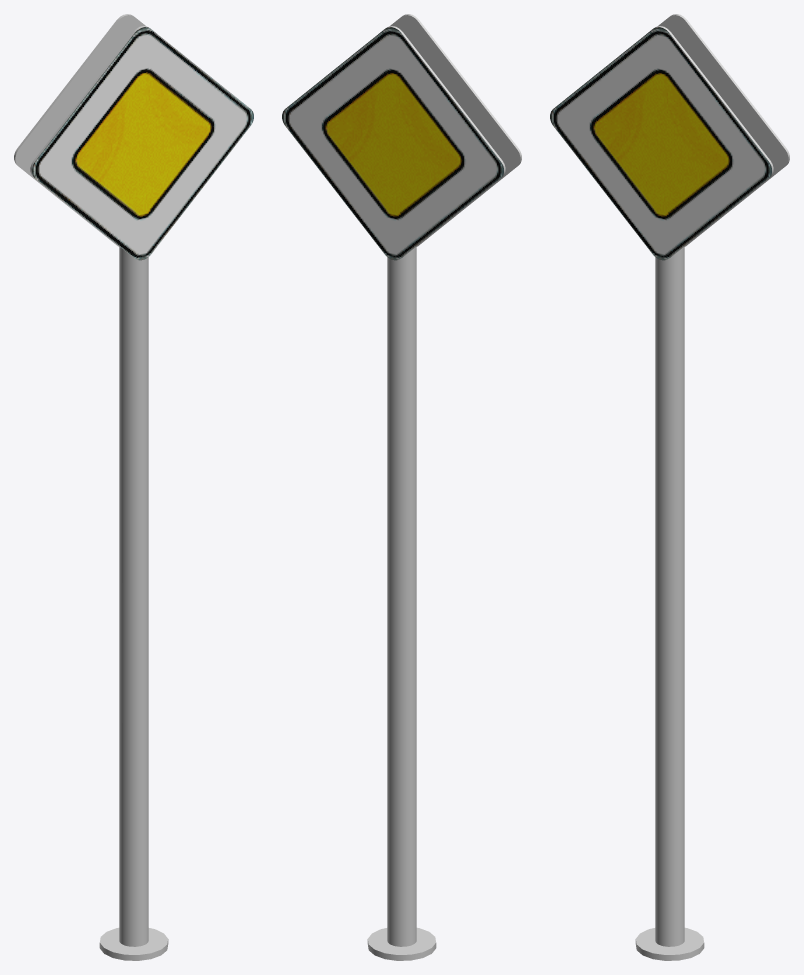
3 renders of one model, left to right at view 1: azimuth 30°, elevation 25°; view 2: azimuth 150°, elevation 25°; view 3: azimuth 330°, elevation 25°, orthographic.
Parts seen in each view (by area): view 1: 2-1; view 2: 2-1; view 3: 2-1.
Part boxes in pixels (left/top/right/bottom): 2-1: left=14, top=14, right=253, bottom=960; 2-1: left=282, top=14, right=521, bottom=960; 2-1: left=550, top=14, right=789, bottom=960.
Bounding box in the file's own units: 86.16 × 343 × 23.17.
2 materials, 1 textured.
